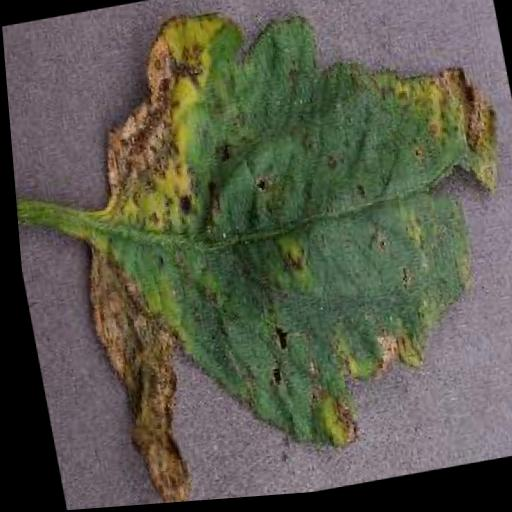Bacterial Spot: (29, 0, 512, 510)
